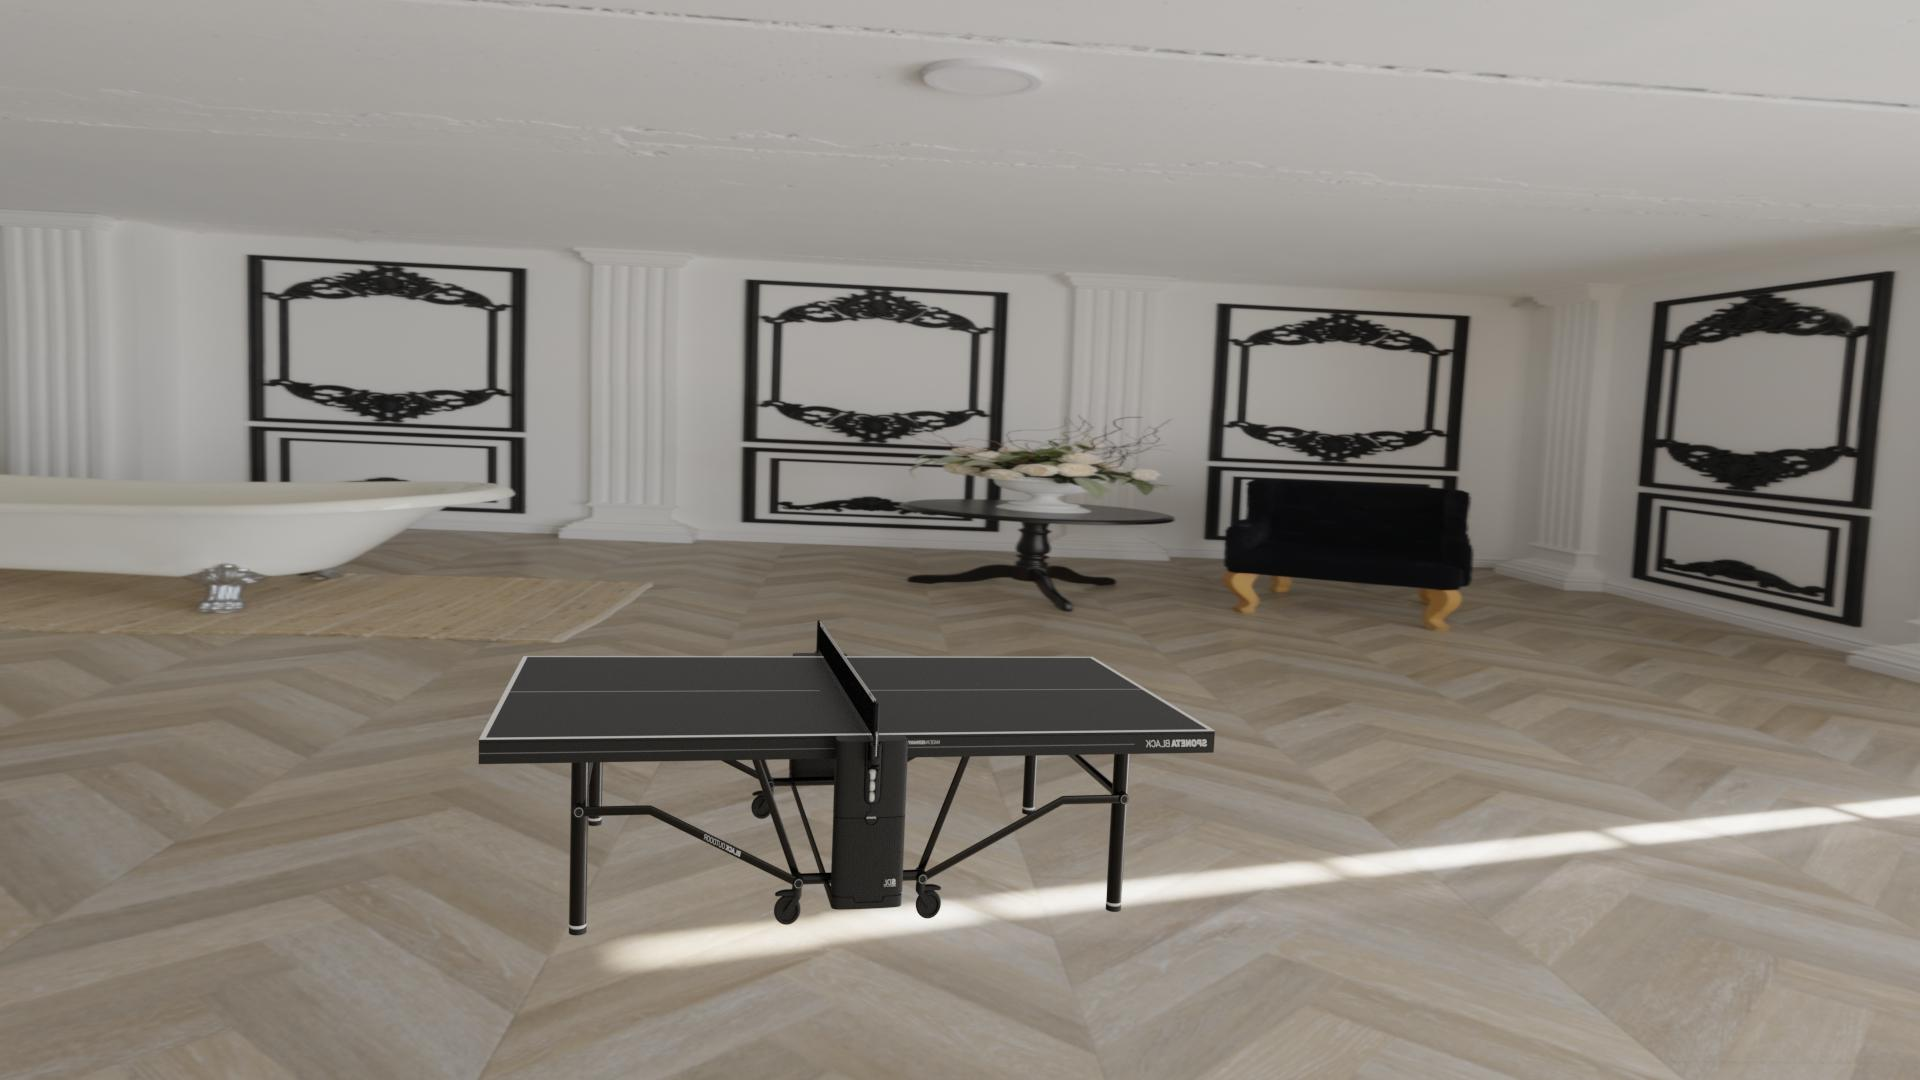table: (485, 657, 1208, 738)
